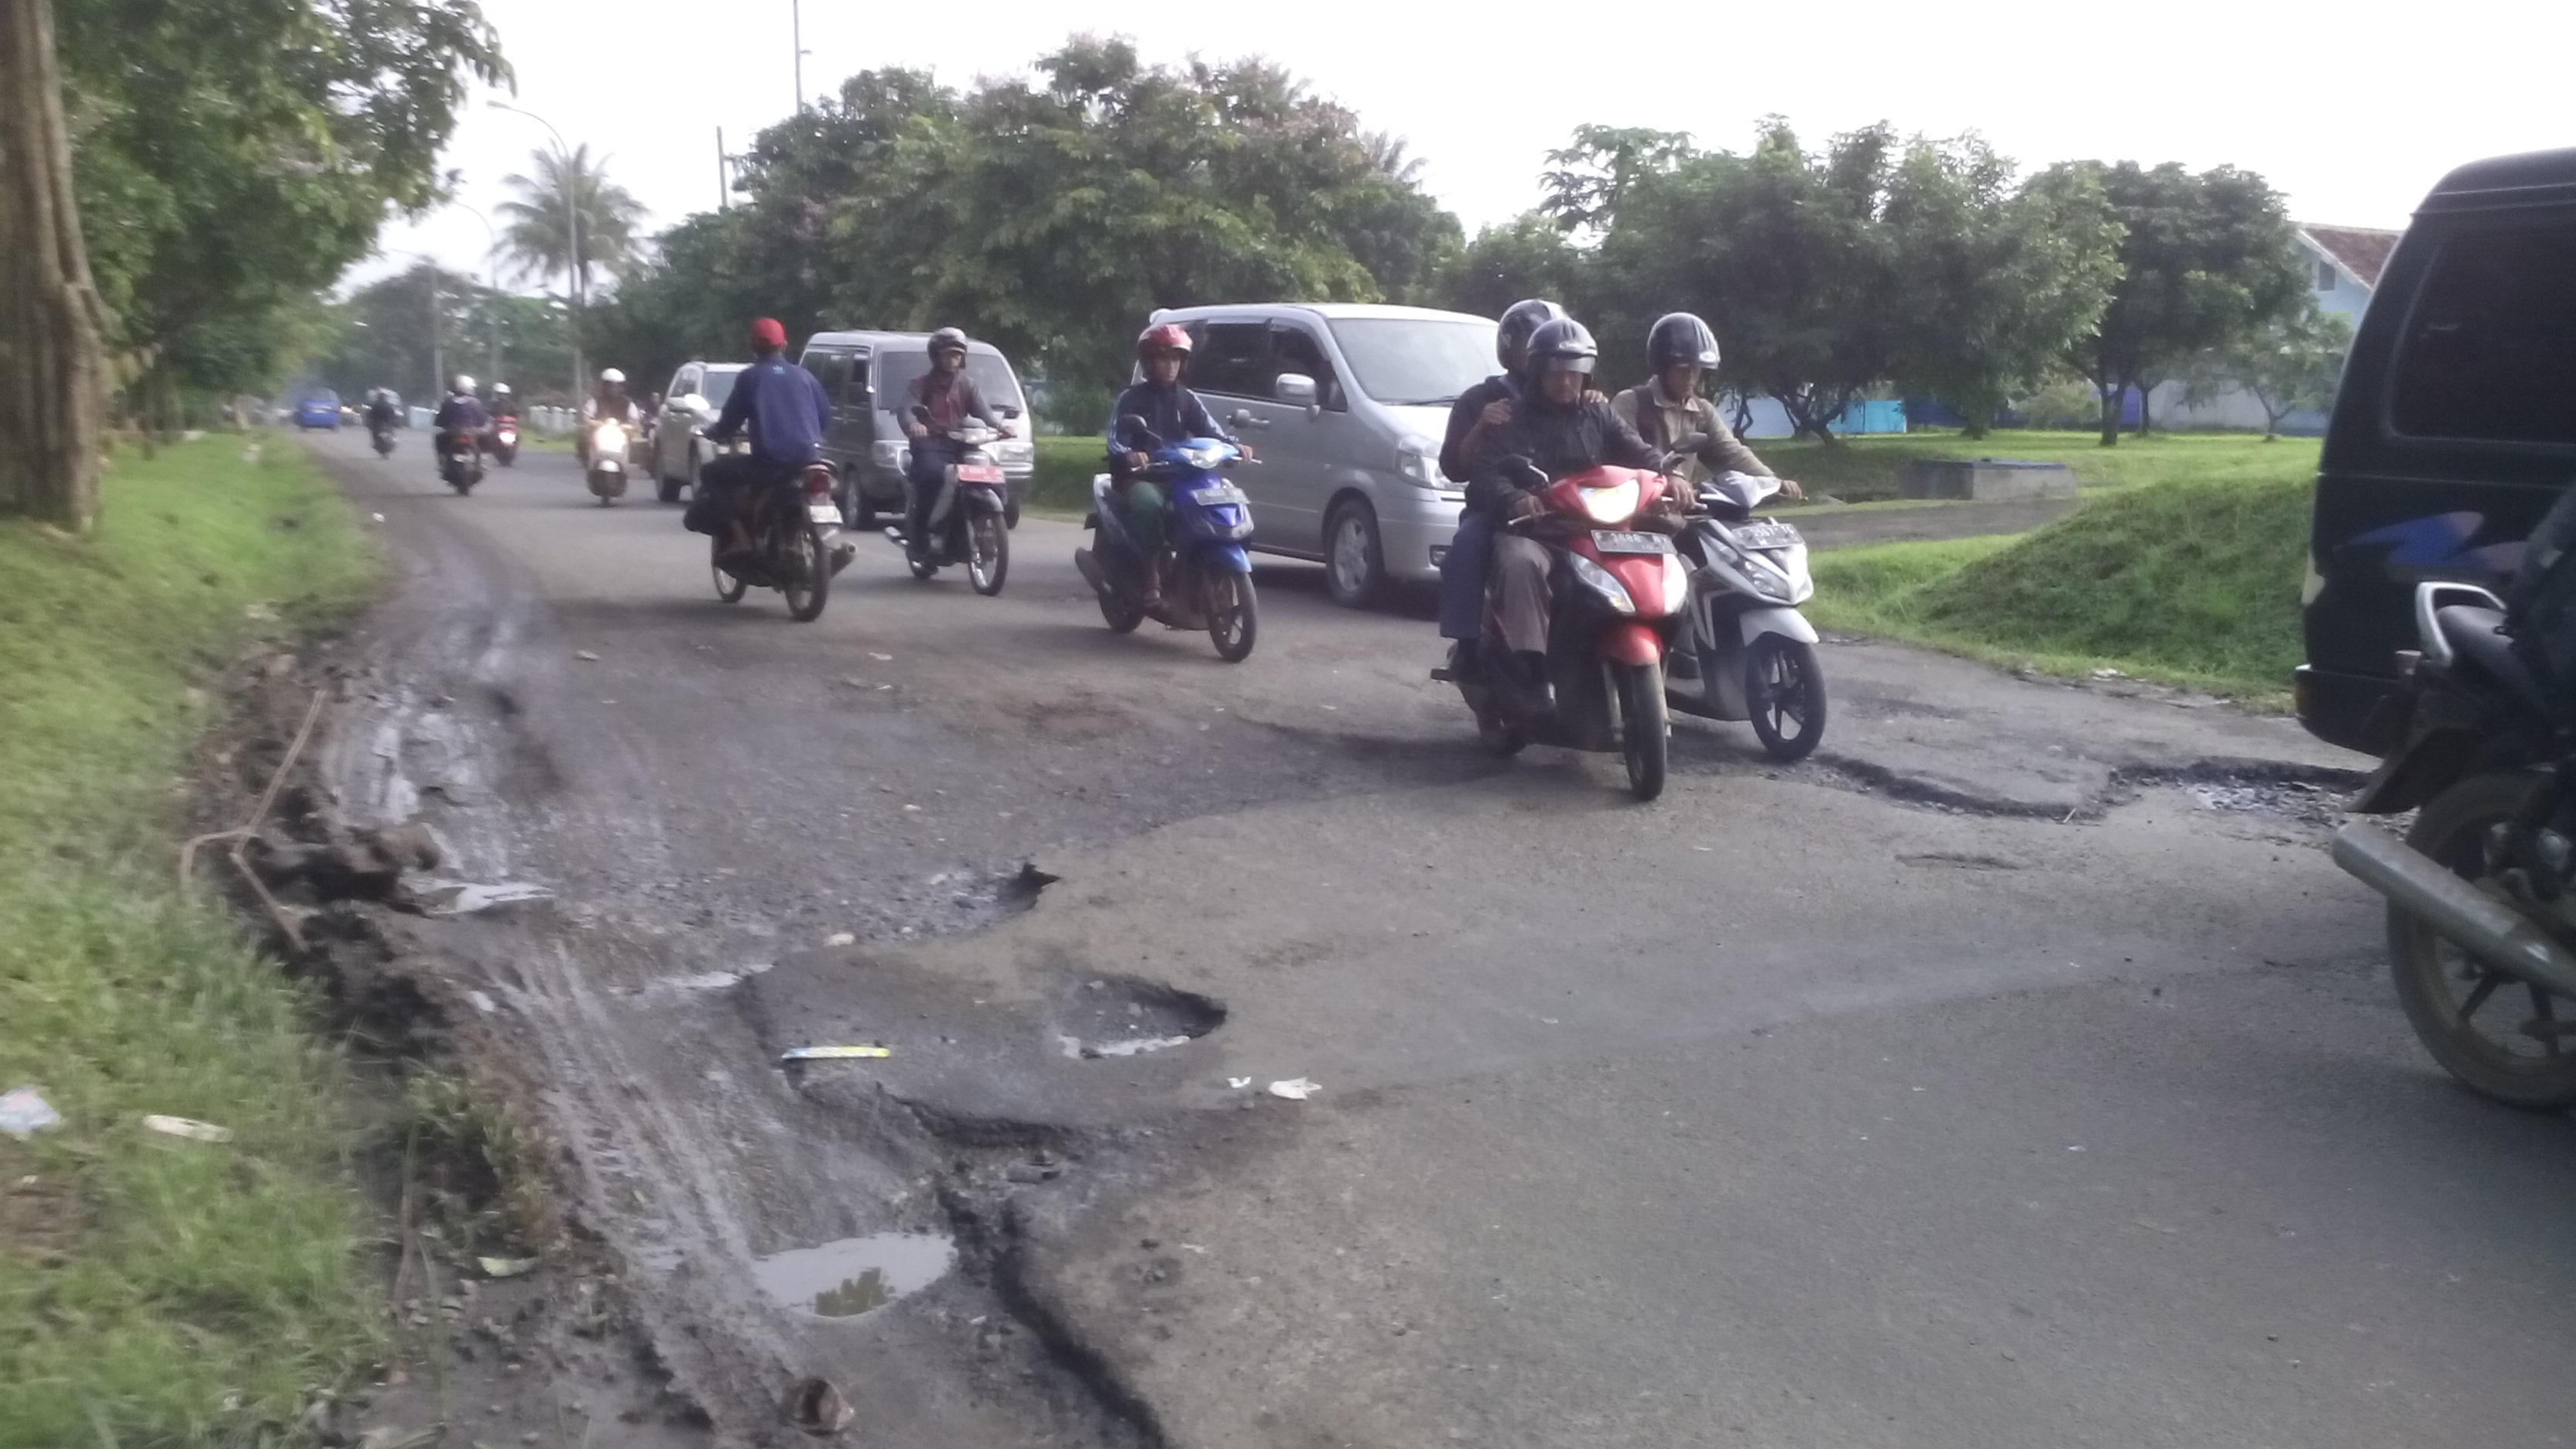Pothole: (218, 520, 1392, 1392), (1805, 694, 2357, 862), (1019, 950, 1292, 1138)
